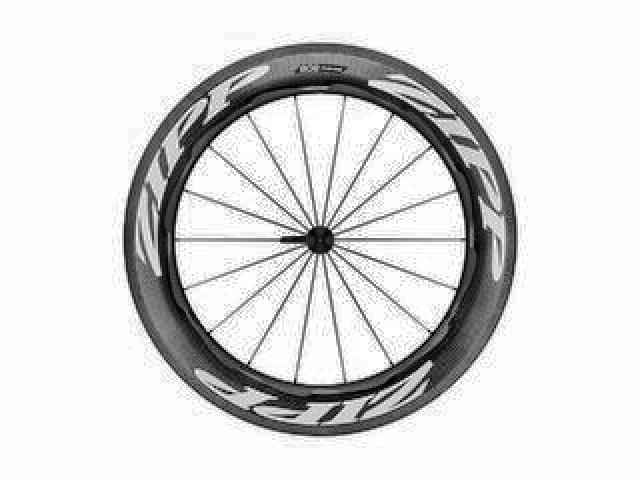wheel: (117, 39, 522, 440)
